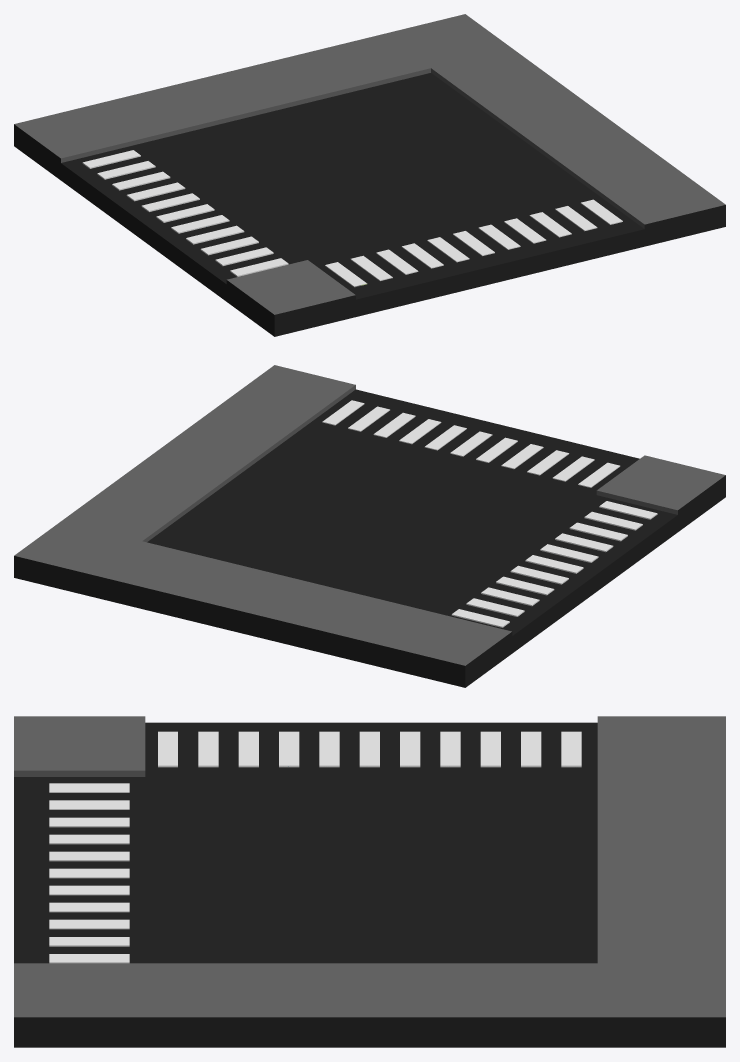
File: road_turn.glb
The picture shows the model from 3 angles, top to bottom: view 1: azimuth 30°, elevation 25°; view 2: azimuth 150°, elevation 25°; view 3: azimuth 270°, elevation 25°; orthographic projection. The views are drawn at different scales.
Visible parts, largest first — view 1: Road_3-way_Intersection.001; view 2: Road_3-way_Intersection.001; view 3: Road_3-way_Intersection.001.
Part boxes in pixels (x1,y1,x2,y2): Road_3-way_Intersection.001: (14, 14, 725, 336); Road_3-way_Intersection.001: (14, 365, 725, 687); Road_3-way_Intersection.001: (14, 716, 725, 1047).
Bounding box in the file's own units: 2 × 0.0934 × 2.
1 material, 1 textured.
